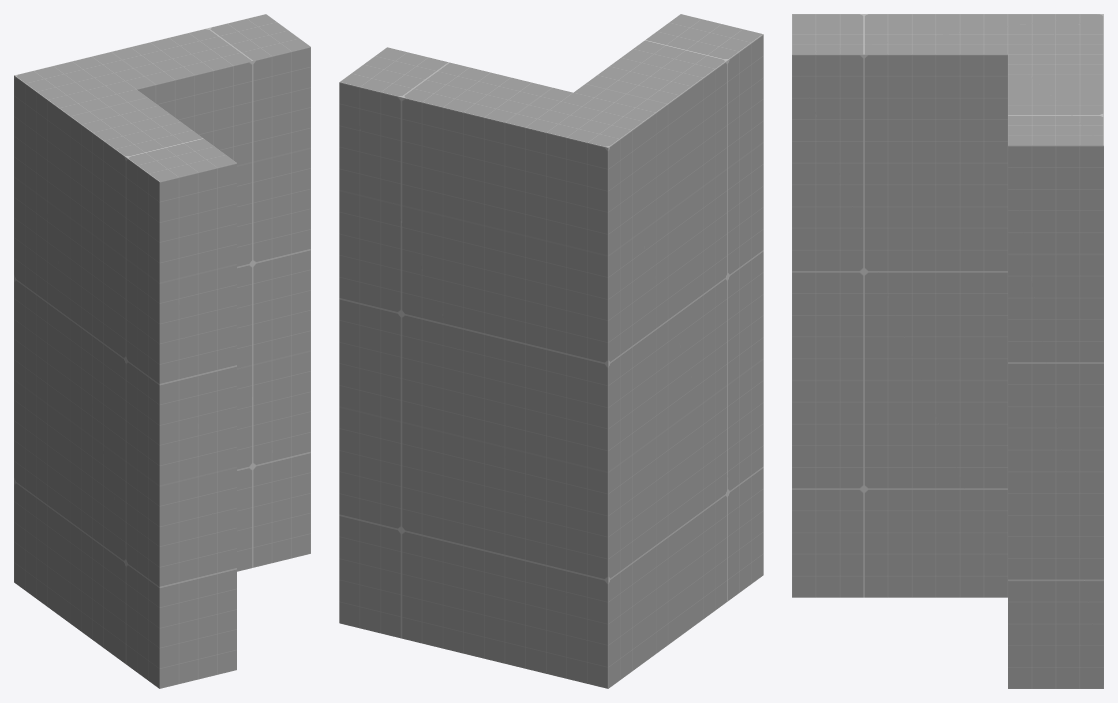
Rendered from Corner_1x1_Thick.001.fbx.
The picture shows the model from 3 angles, left to right: view 1: azimuth 30°, elevation 25°; view 2: azimuth 150°, elevation 25°; view 3: azimuth 270°, elevation 25°; orthographic projection. The views are drawn at different scales.
Visible parts, largest first — view 1: Corner_1x1_Thick.001; view 2: Corner_1x1_Thick.001; view 3: Corner_1x1_Thick.001.
Boxes of the visible parts, <box> form: Corner_1x1_Thick.001: <box>14,14,310,688</box>; Corner_1x1_Thick.001: <box>339,14,763,688</box>; Corner_1x1_Thick.001: <box>792,14,1103,688</box>.
Size of the model in its own units: 130 by 250 by 130.
